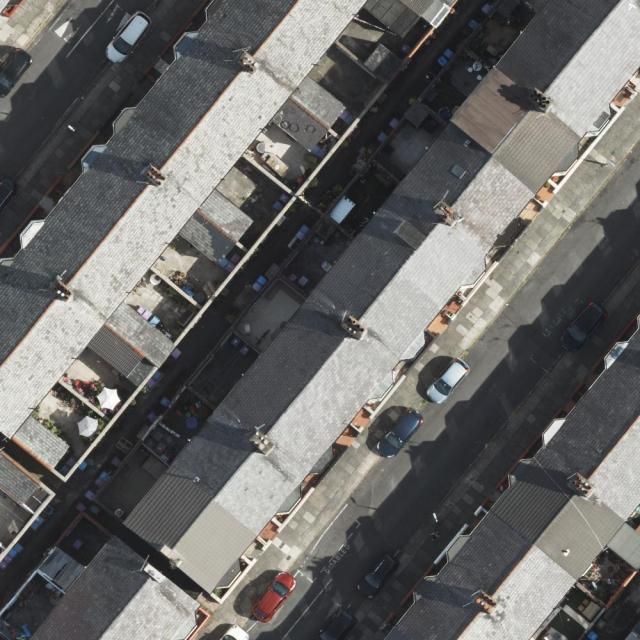roof: (120, 0, 640, 594), (0, 0, 374, 472), (376, 318, 640, 640), (27, 533, 201, 640), (0, 447, 43, 543)
skylight: (449, 159, 471, 180)
